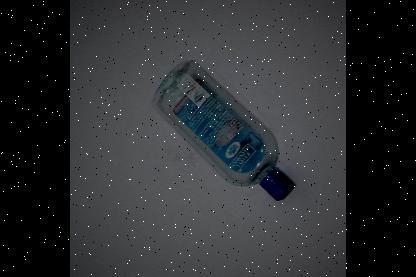Plastic Bottle: (152, 59, 293, 200)
